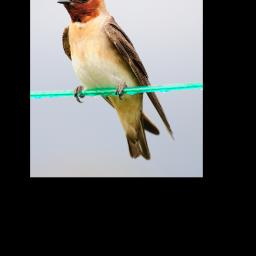Swallow: (56, 0, 175, 161)
